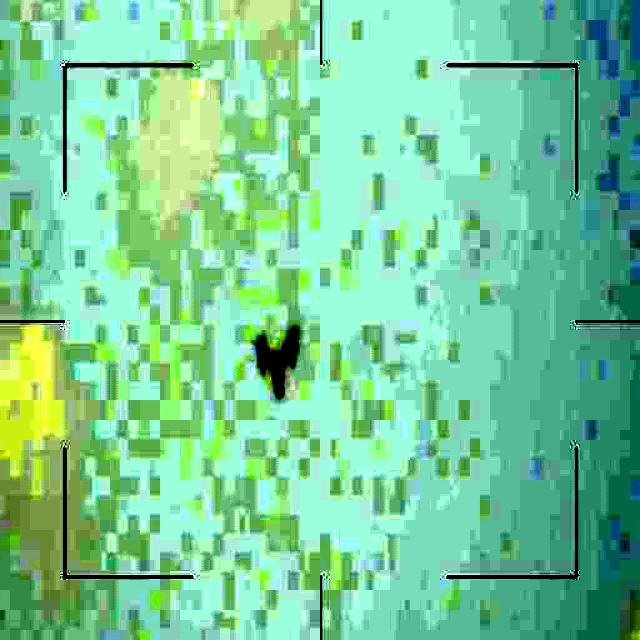bird: (254, 319, 308, 414)
